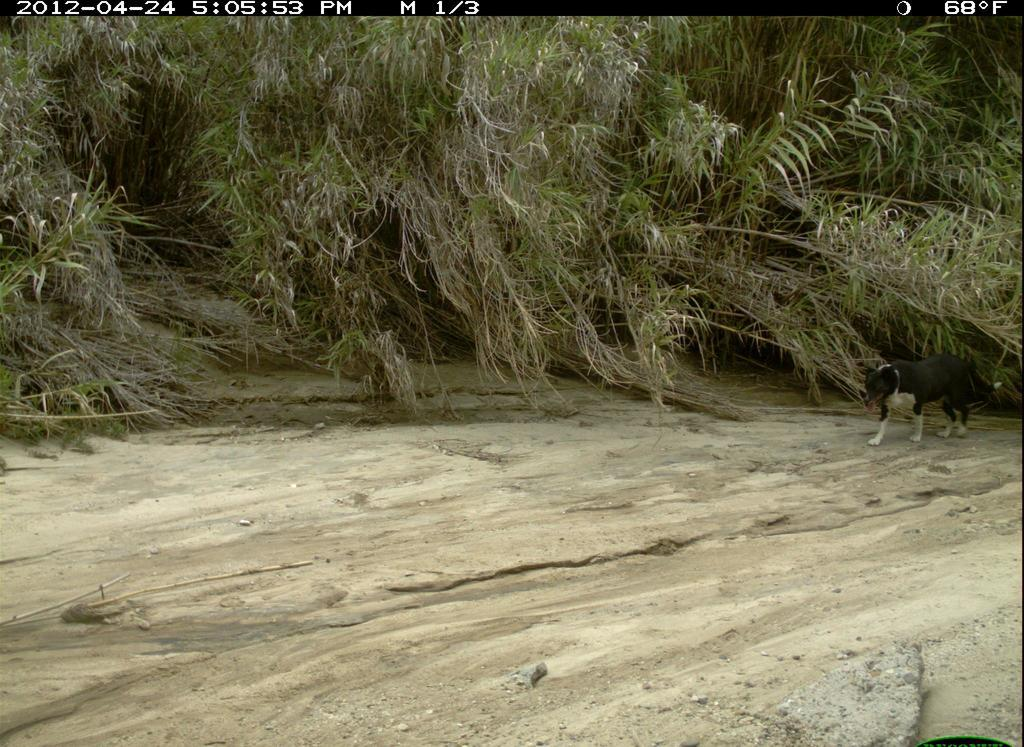dog: (863, 346, 1000, 464)
